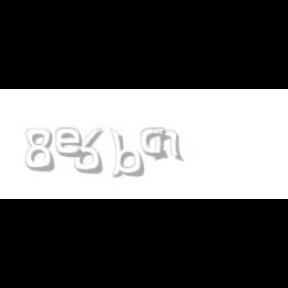6: (74, 128, 104, 176)
8: (26, 128, 54, 172)
b: (109, 128, 147, 178)
c: (140, 128, 170, 160)
e: (56, 128, 88, 158)
n: (150, 128, 184, 162)
